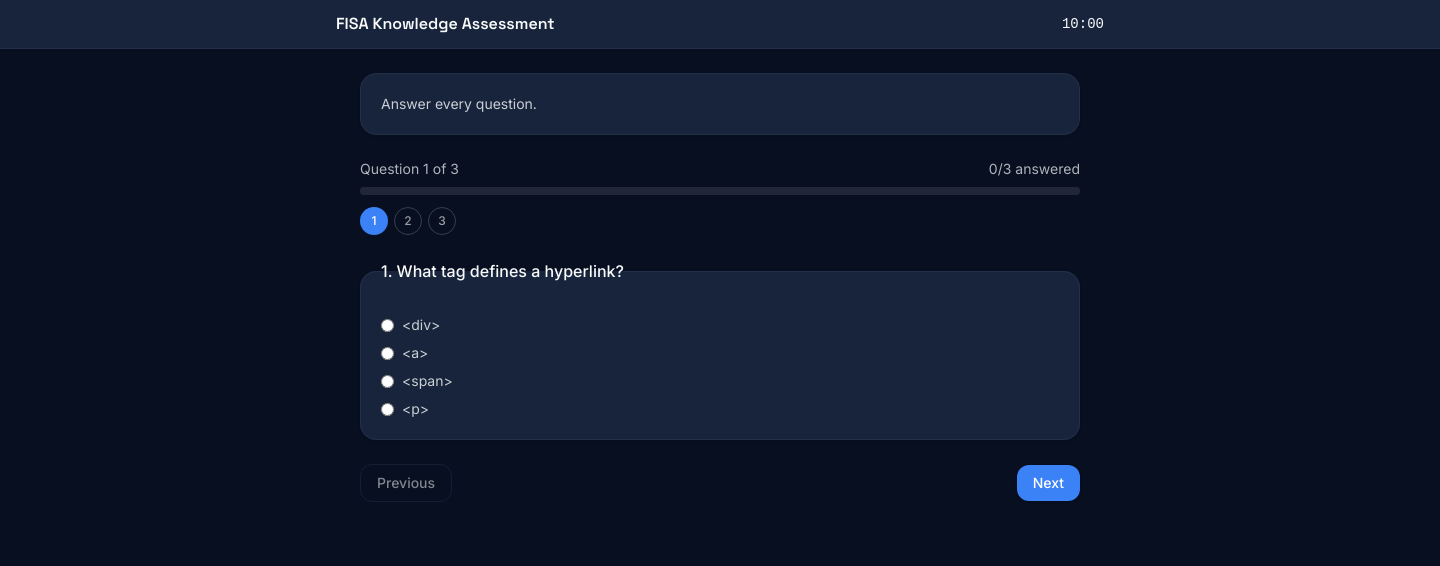
Test: McqExamPage — one-question-at-a-time navigation and progress › submitting with unanswered questions shows a validation error and jumps to the first unanswered one
Expected: the text "Question 1 of 3" is shown, [360,159,459,179]
# Answer question 2 only, then jump to the last question and try to submit.
Click the button named "go to question 2" at (408, 221), box [394,207,422,235]
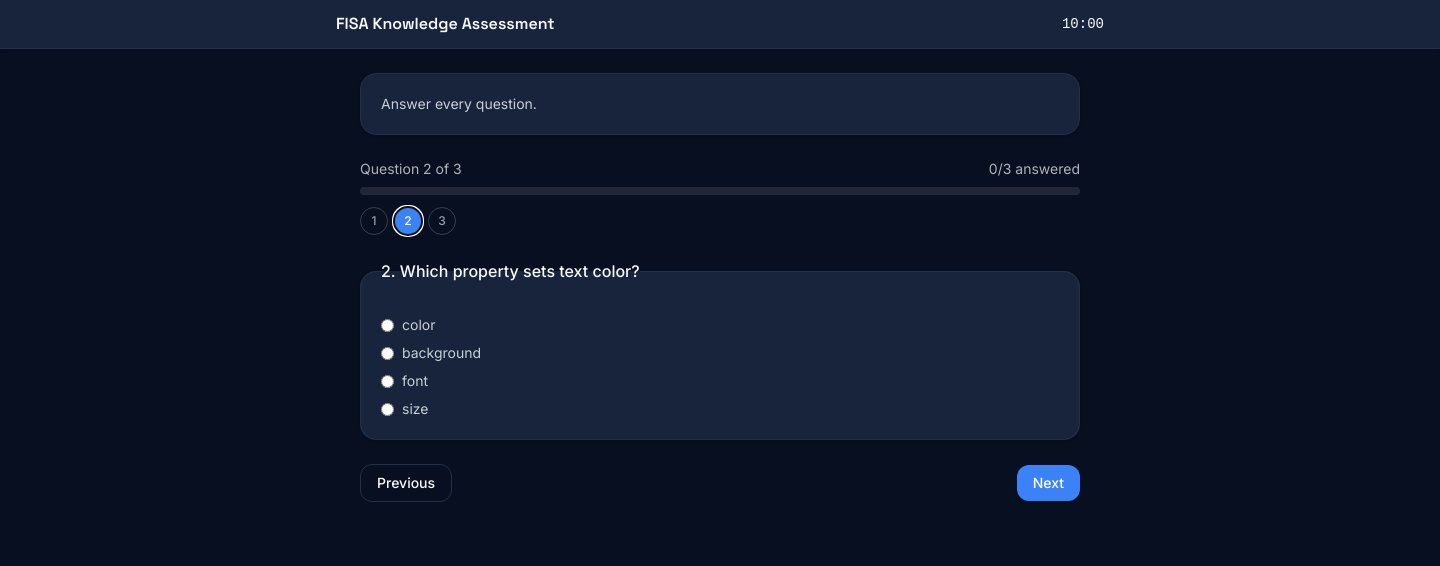
Click the radio button labelled "color" at (388, 325), box [381,318,394,332]
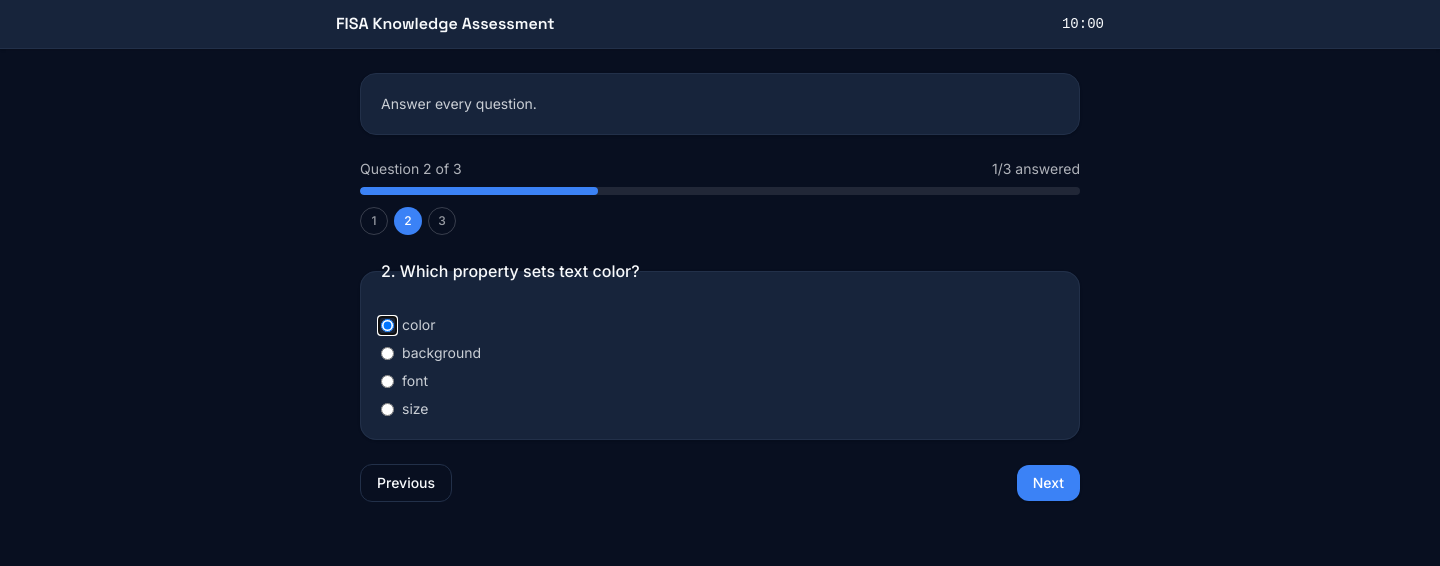
Click the button named "go to question 3" at (442, 221), box [428,207,456,235]
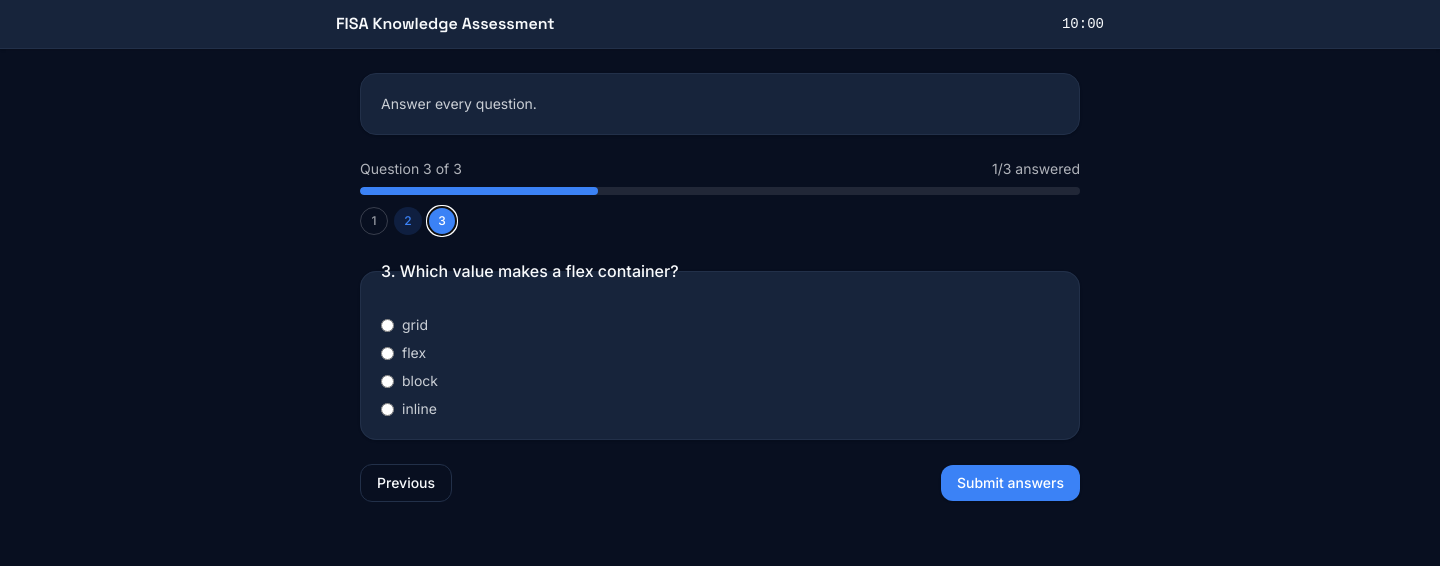
Click the button "Submit answers" at (1010, 483), box [941,465,1080,501]
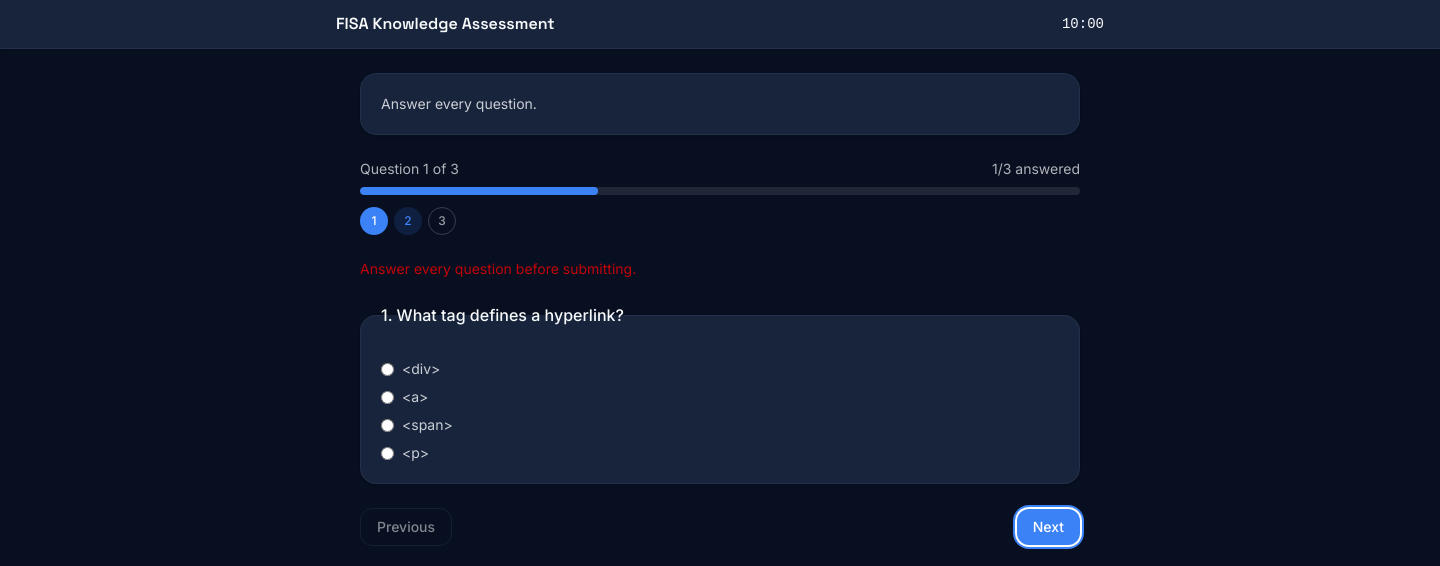
Expected: the text "Answer every question before submitting." is shown, [360,260,636,277]
Expected: the text "Question 1 of 3" is shown, [360,159,459,179]
